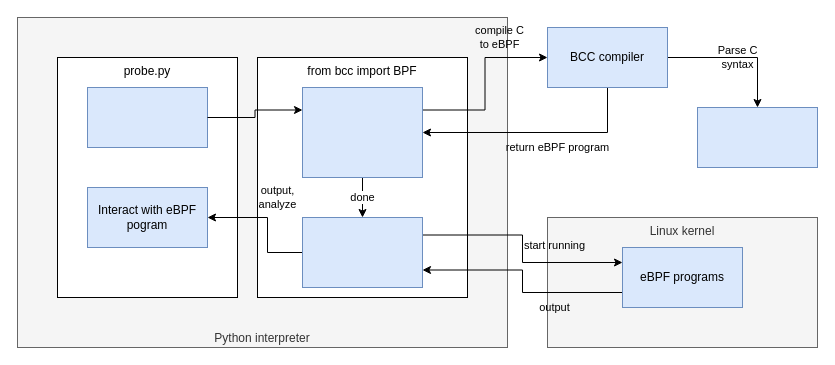
Image size: 835x365. Some labels were removed from this diagram. Each missing label, with the centre of its shape:
eBPF compilation: point 362,132
eBPF executor: point 362,252
eBPF in C inside a Python string: point 147,117
LLVM clang: point 757,137
